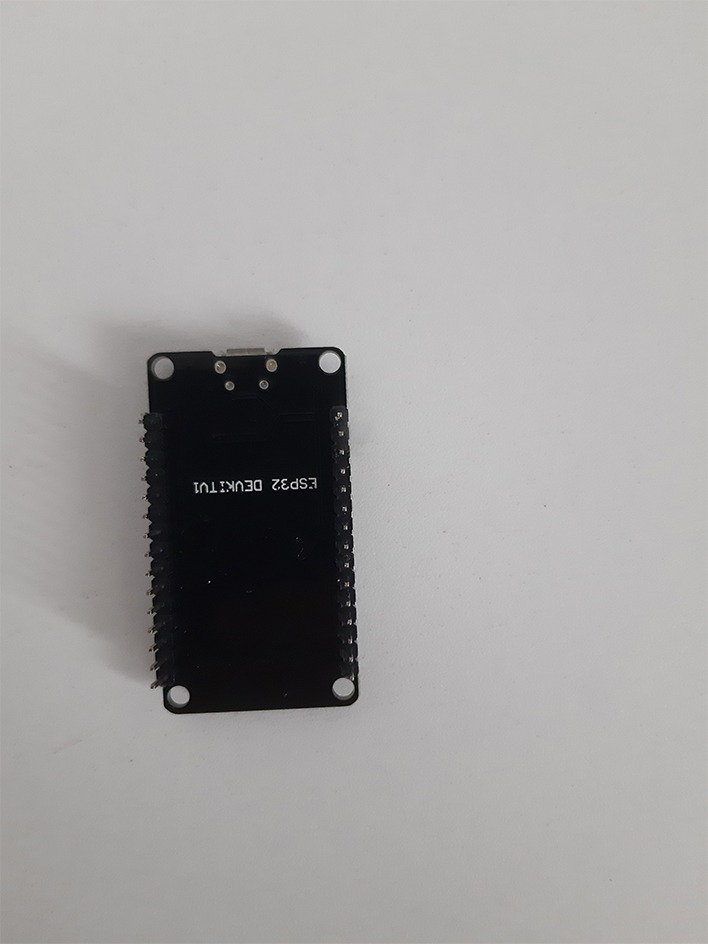ESP32-WROOM: (105, 320, 384, 741)
